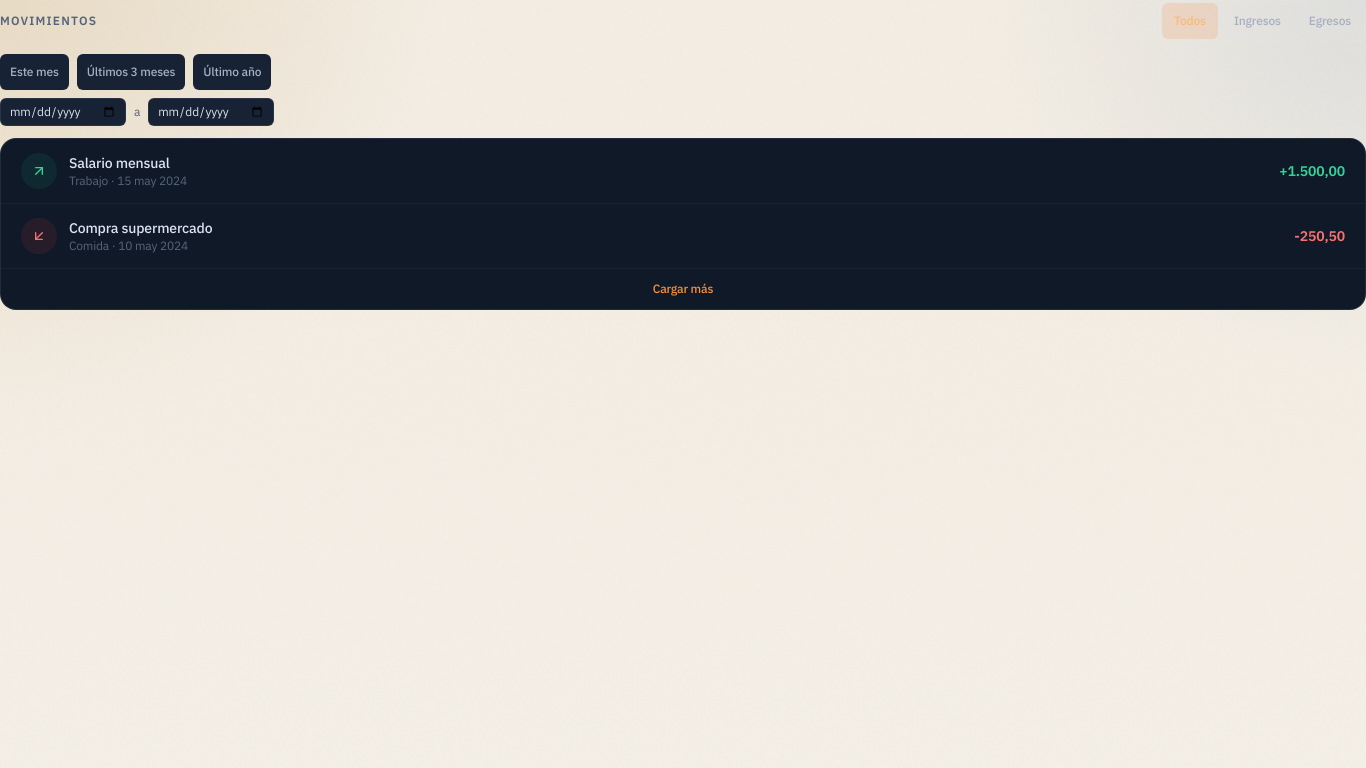
Test case: Transaction Detail Integration › Escape key closes the panel
Step 1. Click the button "Salario mensual Trabajo · 15 may 2024 +1.500,00" → (39, 171), box x1=21 y1=153 x2=1345 y2=189
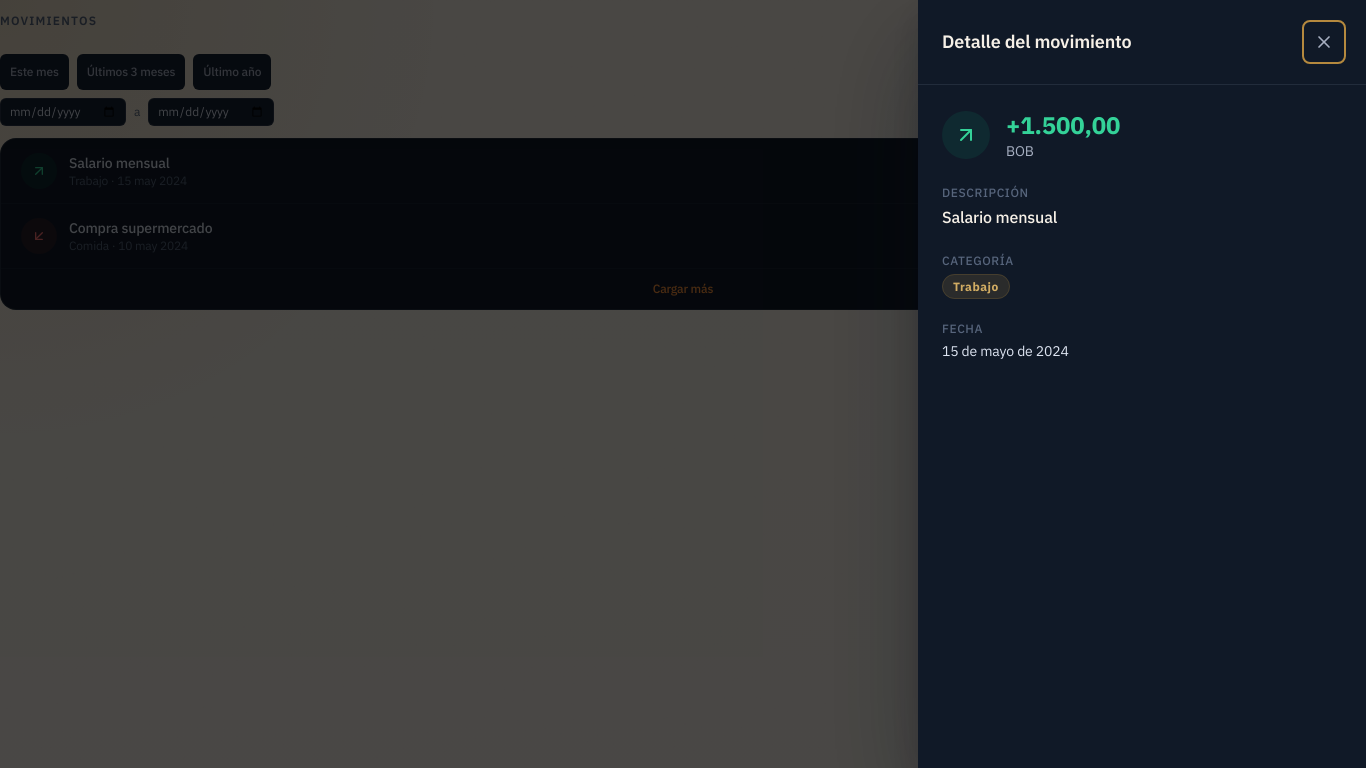
Now the dialog is shown, box x1=918 y1=0 x2=1365 y2=767
Step 2. Press Escape
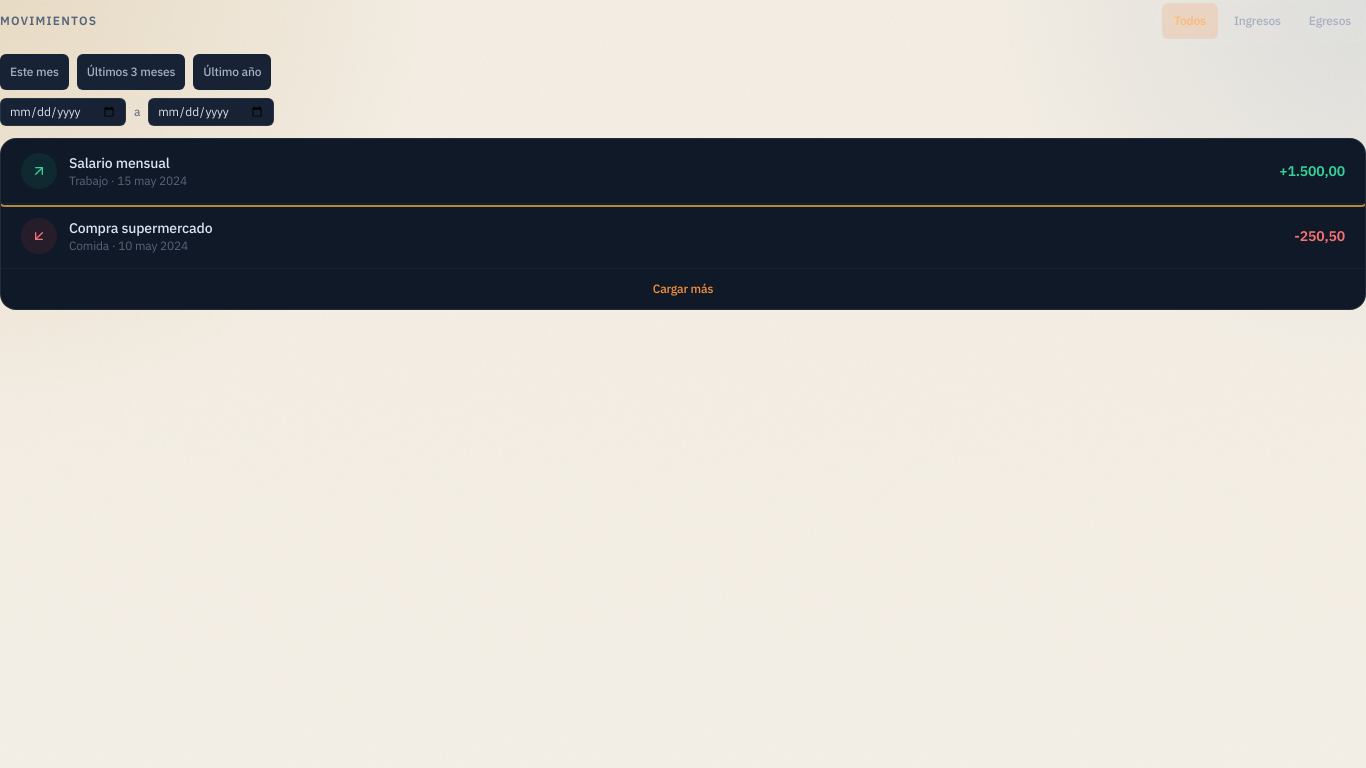
Now the dialog is gone
